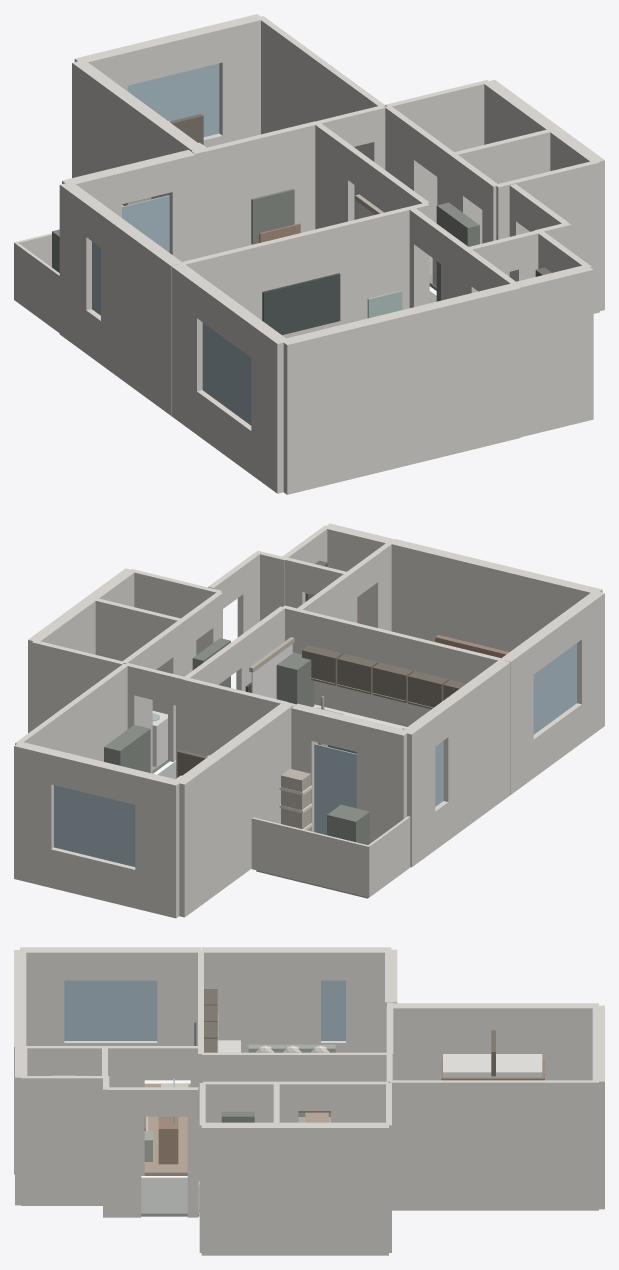
The model's file is kvartira-japandi-school-dinner.glb.
3 views of the same model, one above another, from view 1: azimuth 30°, elevation 25°; view 2: azimuth 150°, elevation 25°; view 3: azimuth 270°, elevation 25° (orthographic). The views are drawn at different scales.
Parts seen in each view (by area): view 1: wall_w_l_s_166_612_0.0, wall_w_dividing_168_644_0.0, wall_w_closet_s_612_752_0.0, wall_w_k_w_559_791_0.0, wall_w_top_s_426_660_0.0, wall_w_top_w_20_423_0.0, wall_w_top_e_20_425_0.0, wall_w_wc_s_777_971_0.0, wall_w_l_w_1057_1143_0.0, wall_w_top_n_691_771_0.0, wall_w_bath_n_777_971_0.0, wall_w_k_w_423_511_0.0 (+40 smaller); view 2: wall_w_l_s_166_612_0.0, wall_w_top_w_20_423_0.0, wall_w_dividing_168_644_0.0, wall_w_k_w_559_791_0.0, wall_w_top_n_422_510_0.0, wall_w_log_n_159_409_0.0, wall_w_top_n_691_771_0.0, wall_w_top_e_20_425_0.0, wall_w_top_n_510_691_0.8, wall_w_k_n1_165_266_0.0, wall_w_k_n2_408_643_0.0, wall_w_bath_n_777_971_0.0 (+51 smaller); view 3: wall_w_top_e_20_425_0.0, wall_w_bath_e_427_791_0.0, wall_w_top_w_20_423_0.0, wall_w_k_w_559_791_0.0, wall_w_closet_e_978_1141_0.0, wall_w_l_w_877_1057_0.8, wall_w_entry_e_908_972_0.0, wall_w_l_w_792_877_0.0, wall_w_k_w_423_511_0.0, wall_w_l_w_1057_1143_0.0, wall_w_l_w_877_1057_2.1, wall_w_k_e_625_790_0.0 (+30 smaller).
Boxes of the visible parts, left/top/right/bottom form: wall_w_l_s_166_612_0.0: left=281, top=283, right=520, bottom=494; wall_w_dividing_168_644_0.0: left=178, top=202, right=429, bottom=338; wall_w_closet_s_612_752_0.0: left=516, top=265, right=593, bottom=437; wall_w_k_w_559_791_0.0: left=101, top=212, right=182, bottom=415; wall_w_top_s_426_660_0.0: left=204, top=119, right=327, bottom=256; wall_w_top_w_20_423_0.0: left=72, top=60, right=204, bottom=199; wall_w_top_e_20_425_0.0: left=258, top=16, right=385, bottom=219; wall_w_wc_s_777_971_0.0: left=495, top=161, right=599, bottom=313; wall_w_l_w_1057_1143_0.0: left=251, top=322, right=289, bottom=493; wall_w_top_n_691_771_0.0: left=216, top=14, right=263, bottom=143; wall_w_bath_n_777_971_0.0: left=385, top=80, right=489, bottom=223; wall_w_k_w_423_511_0.0: left=59, top=183, right=98, bottom=353; wall_w_l_s_166_612_0.0: left=390, top=539, right=602, bottom=651; wall_w_top_w_20_423_0.0: left=174, top=703, right=292, bottom=917; wall_w_dividing_168_644_0.0: left=282, top=605, right=505, bottom=726; wall_w_k_w_559_791_0.0: left=437, top=659, right=510, bottom=840; wall_w_top_n_422_510_0.0: left=135, top=771, right=181, bottom=918; wall_w_log_n_159_409_0.0: left=251, top=817, right=368, bottom=897; wall_w_top_n_691_771_0.0: left=14, top=742, right=56, bottom=887; wall_w_top_e_20_425_0.0: left=15, top=663, right=127, bottom=761; wall_w_top_n_510_691_0.8: left=54, top=785, right=135, bottom=866; wall_w_k_n1_165_266_0.0: left=356, top=719, right=409, bottom=843; wall_w_k_n2_408_643_0.0: left=183, top=679, right=295, bottom=756; wall_w_bath_n_777_971_0.0: left=32, top=641, right=124, bottom=730; wall_w_top_e_20_425_0.0: left=390, top=1080, right=598, bottom=1210; wall_w_bath_e_427_791_0.0: left=201, top=1122, right=388, bottom=1255; wall_w_top_w_20_423_0.0: left=391, top=1003, right=598, bottom=1080; wall_w_k_w_559_791_0.0: left=201, top=947, right=320, bottom=1052; wall_w_closet_e_978_1141_0.0: left=21, top=1076, right=104, bottom=1205; wall_w_l_w_877_1057_0.8: left=64, top=980, right=157, bottom=1040; wall_w_entry_e_908_972_0.0: left=108, top=1087, right=141, bottom=1217; wall_w_l_w_792_877_0.0: left=157, top=947, right=200, bottom=1080; wall_w_k_w_423_511_0.0: left=346, top=947, right=391, bottom=1052; wall_w_l_w_1057_1143_0.0: left=20, top=947, right=64, bottom=1045; wall_w_l_w_877_1057_2.1: left=64, top=947, right=157, bottom=980; wall_w_k_e_625_790_0.0: left=202, top=1052, right=286, bottom=1111.
Bounding box in the file's own units: 8.24 × 2.77 × 11.41.
